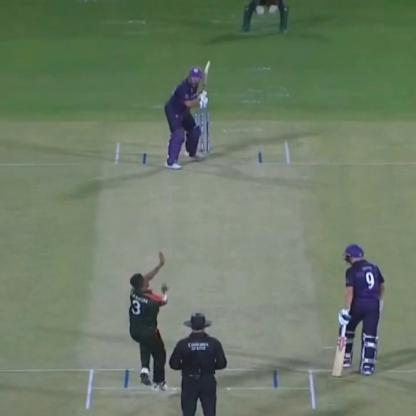ball: (158, 280, 170, 294)
bat: (196, 50, 218, 112)
pitch: (78, 141, 326, 412)
